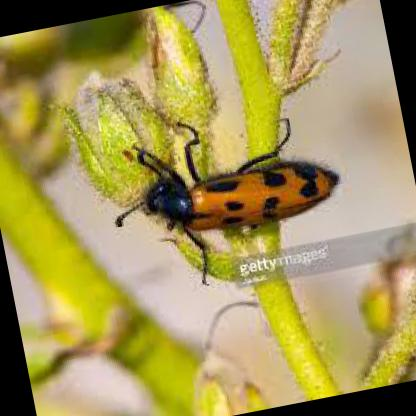blister beetle: (113, 122, 338, 254)
